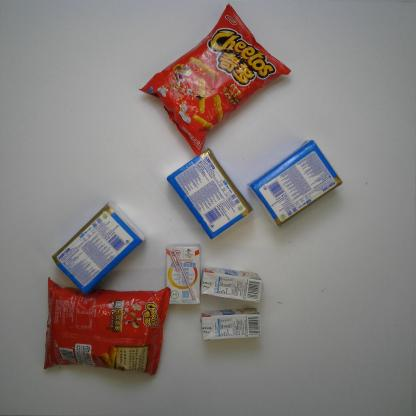Milk: (164, 244, 204, 309), (198, 265, 264, 303), (198, 306, 264, 344)
Puffed Food: (136, 1, 294, 161), (42, 274, 174, 378)
Tissue: (48, 198, 148, 296), (243, 137, 345, 229), (164, 146, 254, 242)
